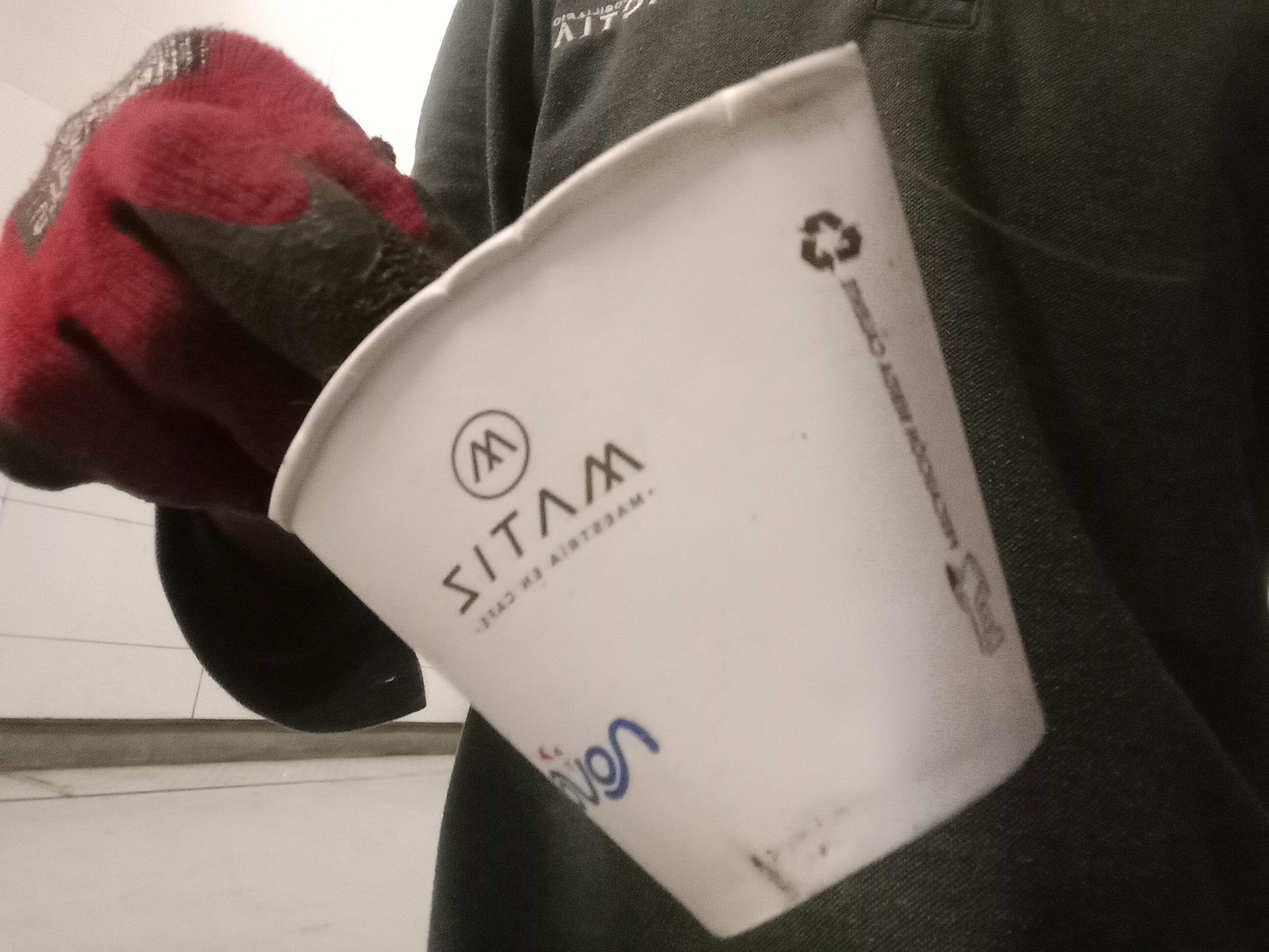Carton: (269, 39, 1045, 941)
